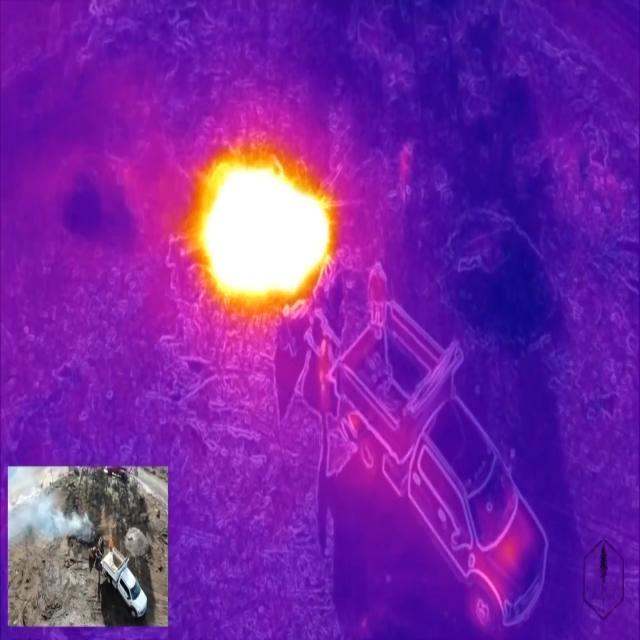fire: (185, 155, 338, 316)
